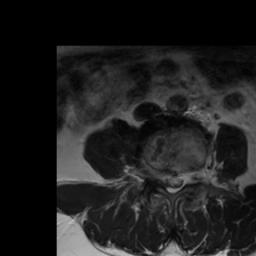CCS_normal: (168, 164, 175, 200)
LFS_normal: (183, 164, 192, 189)
LLS_normal: (175, 164, 183, 195)
RFS_normal: (152, 161, 160, 188)
RLS_normal: (160, 164, 168, 195)
